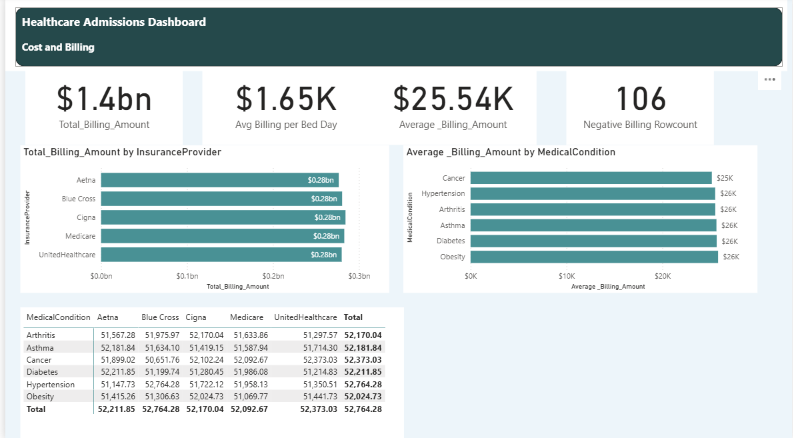

The dashboard page shown, as its layout file describes it:
{"tool":"powerbi","page":{"name":"Costs and Billing","canvas":[1280,720],"ordinal":3},"visuals":[{"type":"card","fields":{"Values":["_Measures.Total_Billing_Amount"]},"box":[32,96,256,144],"z":0},{"type":"card","fields":{"Values":["_Measures.Average _Billing_Amount"]},"box":[592,96,272,144],"z":1000},{"type":"card","fields":{"Values":["_Measures.Avg Billing per Bed Day"]},"box":[320,96,272,144],"z":2000},{"type":"card","fields":{"Values":["_Measures.Negative Billing Amount"]},"box":[912,96,240,144],"z":3000},{"type":"barChart","fields":{"Y":["_Measures.Total_Billing_Amount"],"Category":["FactAdmissions.InsuranceProvider"]},"box":[24,240,600,240],"z":4000},{"type":"barChart","fields":{"Y":["_Measures.Average _Billing_Amount"],"Category":["FactAdmissions.MedicalCondition"]},"box":[648,240,576,240],"z":5000},{"type":"pivotTable","fields":{"Rows":["FactAdmissions.MedicalCondition"],"Columns":["FactAdmissions.InsuranceProvider"],"Values":["_Measures.Maximum Billing Amount"]},"box":[24,504,624,216],"z":6000},{"type":"textbox","box":[0,0,1272,120],"z":7000},{"type":"textbox","box":[16,16,1248,96],"z":8000}]}

Visuals, with their boxes in screenshot pixels (x1, y1, x2, y2), scaled from the page's 1280x720 canvas onto the 793x438 screenshot:
card - _Measures.Total_Billing_Amount: left=20, top=58, right=178, bottom=146
card - _Measures.Average _Billing_Amount: left=367, top=58, right=535, bottom=146
card - _Measures.Avg Billing per Bed Day: left=198, top=58, right=367, bottom=146
card - _Measures.Negative Billing Amount: left=565, top=58, right=714, bottom=146
barChart - _Measures.Total_Billing_Amount x FactAdmissions.InsuranceProvider: left=15, top=146, right=387, bottom=292
barChart - _Measures.Average _Billing_Amount x FactAdmissions.MedicalCondition: left=401, top=146, right=758, bottom=292
pivotTable - FactAdmissions.MedicalCondition x FactAdmissions.InsuranceProvider: left=15, top=307, right=401, bottom=437
textbox: left=0, top=0, right=788, bottom=73
textbox: left=10, top=10, right=783, bottom=68
